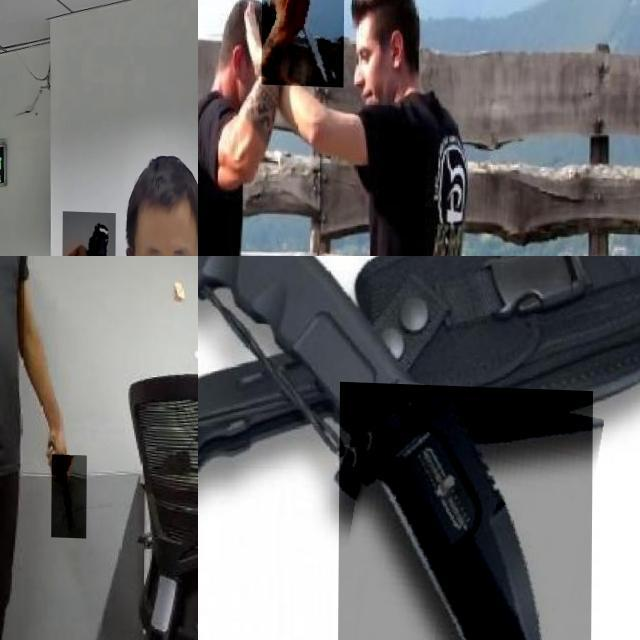-: (338, 379, 593, 640), (262, 0, 345, 85), (52, 452, 88, 536)
gun-knife-thesis - v11 Yolov5 augmented: (62, 209, 116, 256)
